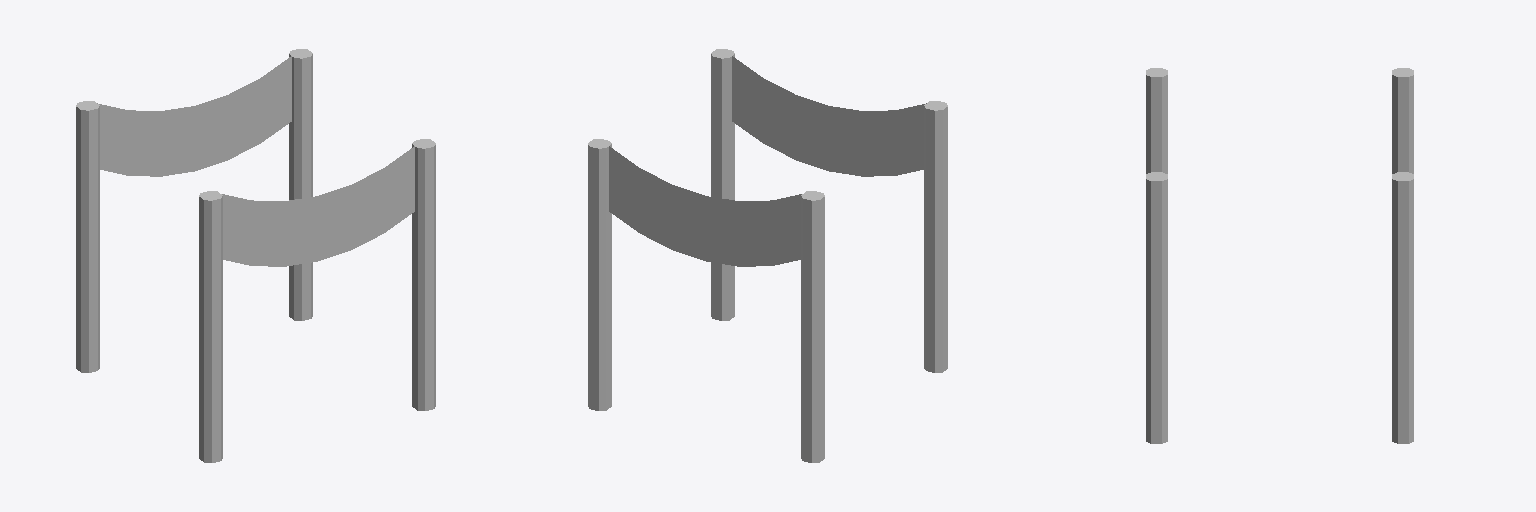
The model's file is banner-hanging-double-high.obj.
The picture shows the model from 3 angles: view 1: azimuth 30°, elevation 25°; view 2: azimuth 150°, elevation 25°; view 3: azimuth 270°, elevation 25°; orthographic projection.
Parts seen in each view (by area): view 1: banner-hanging-double-high; view 2: banner-hanging-double-high; view 3: banner-hanging-double-high.
Part boxes in pixels (x1,y1,x2,y2): banner-hanging-double-high: (76,49,435,462); banner-hanging-double-high: (588,49,947,462); banner-hanging-double-high: (1146,68,1413,443).
Bounding box in the file's own units: 0.925 × 1 × 0.925.